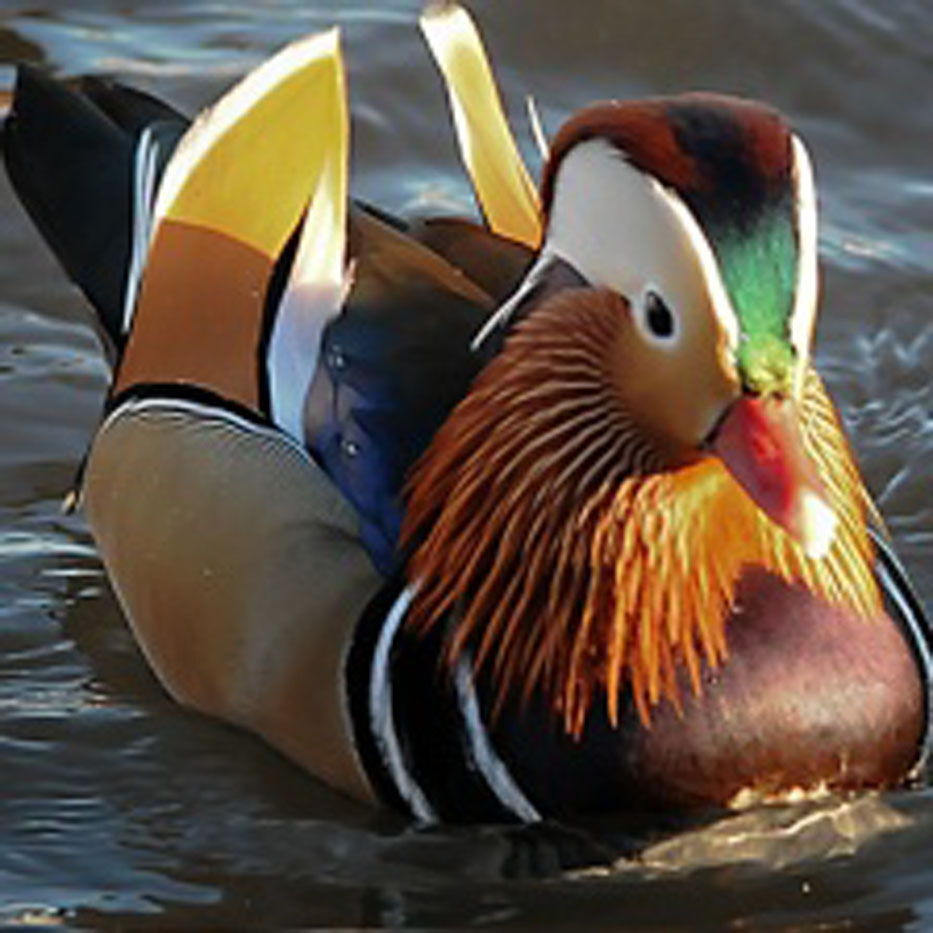Mencari Makan di Lumpur: (717, 397, 851, 577)
